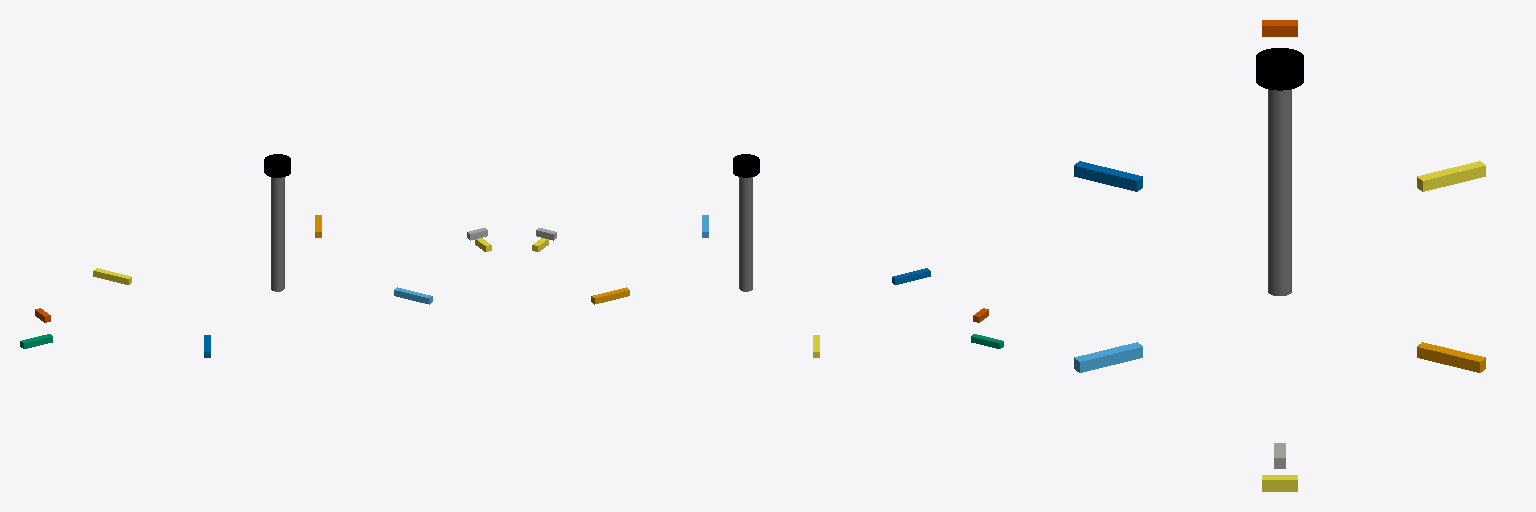
robot.urdf — sensors_robot:
<?xml version="1.0"?>
<robot name="sensors_robot">

  <!-- Dummy Root Link (Fixes KDL Inertia Warning) -->
  <link name="base_footprint"/>

  <joint name="base_joint" type="fixed">
    <parent link="base_footprint"/>
    <child link="base_link"/>
    <origin xyz="0 0 0" rpy="0 0 0"/>
  </joint>

  <!-- 车体 -->
  <link name="base_link">
    <visual>
      <origin xyz="0 0 0" rpy="0 0 0"/>
      <geometry>
        <mesh filename="package://model_test/meshes/visual/80.dae" scale="0.1 0.1 0.1"/>
      </geometry>
    </visual>
    <collision>
      <geometry>
        <mesh filename="package://model_test/meshes/collision/80.stl" scale="0.1 0.1 0.1"/>
      </geometry>
    </collision>
    <inertial>
      <mass value="10.0"/>
      <inertia ixx="0.1" ixy="0.0" ixz="0.0" iyy="0.1" iyz="0.0" izz="0.1"/>
    </inertial>
  </link>

  <!-- Gazebo Planar Move Plugin -->
  <gazebo>
    <plugin name="object_controller" filename="libgazebo_ros_planar_move.so">
      <commandTopic>/cmd_vel</commandTopic>
      <odometryTopic>odom</odometryTopic>
      <odometryFrame>odom</odometryFrame>
      <odometryRate>50.0</odometryRate>
      <robotBaseFrame>base_footprint</robotBaseFrame>
      <cmdTimeout>-1.0</cmdTimeout>
    </plugin>
  </gazebo>

  <!-- ================= SENSORS (GPU) ================= -->

  <!-- 1. LiDAR (128-line GPU) -->
  <link name="lidar_link">
    <visual>
      <geometry><cylinder radius="0.02" length="0.02"/></geometry>
      <material name="black"><color rgba="0 0 0 1"/></material>
    </visual>
    <!-- Support Stand -->
    <visual>
      <origin xyz="0 0 -0.1" rpy="0 0 0"/>
      <geometry><cylinder radius="0.01" length="0.2"/></geometry>
      <material name="grey"><color rgba="0.5 0.5 0.5 1"/></material>
    </visual>
  </link>
  <joint name="lidar_joint" type="fixed">
    <parent link="base_link"/>
    <child link="lidar_link"/>
    <origin xyz="0 0 0.35" rpy="0 0 0"/>
  </joint>
  <gazebo reference="lidar_link">
    <sensor type="ray" name="lidar_sensor">
      <pose>0 0 0 0 0 0</pose>
      <visualize>false</visualize>
      <update_rate>10</update_rate>
      <ray>
        <scan>
          <horizontal>
            <samples>1080</samples>
            <resolution>1</resolution>
            <min_angle>-3.14159</min_angle>
            <max_angle>3.14159</max_angle>
          </horizontal>
        </scan>
        <range>
          <min>0.10</min>
          <max>30.0</max>
          <resolution>0.01</resolution>
        </range>
      </ray>
      <plugin name="gazebo_ros_lidar_controller" filename="libgazebo_ros_laser.so">
        <topicName>/scan</topicName>
        <frameName>lidar_link</frameName>
      </plugin>
    </sensor>
  </gazebo>

  <!-- 2. Kinect Cameras (Front & Rear) -->
  <!-- Front Kinect -->
  <link name="kinect_front_link">
    <visual><geometry><box size="0.01 0.03 0.01"/></geometry></visual>
    <collision><geometry><box size="0.01 0.03 0.01"/></geometry></collision>
    <inertial>
      <mass value="0.01"/>
      <inertia ixx="0.00001" ixy="0" ixz="0" iyy="0.00001" iyz="0" izz="0.00001"/>
    </inertial>
  </link>
  
  <joint name="kinect_front_joint" type="fixed">
    <parent link="base_link"/>
    <child link="kinect_front_link"/>
    <origin xyz="0.35 0 0.14" rpy="0 0 0"/>
  </joint>

  <!-- Optical Frame for Plugin -->
  <link name="kinect_front_optical_link"/>
  <joint name="kinect_front_optical_joint" type="fixed">
    <parent link="kinect_front_link"/>
    <child link="kinect_front_optical_link"/>
    <origin xyz="0 0 0" rpy="-1.5708 0 -1.5708"/>
  </joint>

  <gazebo reference="kinect_front_link">
    <sensor type="depth" name="kinect_front_sensor">
      <update_rate>10.0</update_rate>
      <camera>
        <horizontal_fov>1.047</horizontal_fov>
        <image>
          <width>320</width>
          <height>240</height>
          <format>R8G8B8</format>
        </image>
        <clip><near>0.05</near><far>8.0</far></clip>
      </camera>
      <plugin name="kinect_front_controller" filename="libgazebo_ros_openni_kinect.so">
        <baseline>0.2</baseline>
        <alwaysOn>true</alwaysOn>
        <updateRate>0.0</updateRate>
        <cameraName>kinect_front</cameraName>
        <imageTopicName>rgb/image_raw</imageTopicName>
        <cameraInfoTopicName>rgb/camera_info</cameraInfoTopicName>
        <depthImageTopicName>depth/image_raw</depthImageTopicName>
        <depthImageCameraInfoTopicName>depth/camera_info</depthImageCameraInfoTopicName>
        <pointCloudTopicName>depth/points</pointCloudTopicName>
        <frameName>kinect_front_optical_link</frameName>
      </plugin>
    </sensor>
  </gazebo>

  <!-- Rear Kinect -->
  <link name="kinect_rear_link">
    <visual><geometry><box size="0.01 0.03 0.01"/></geometry></visual>
    <collision><geometry><box size="0.01 0.03 0.01"/></geometry></collision>
    <inertial>
      <mass value="0.01"/>
      <inertia ixx="0.00001" ixy="0" ixz="0" iyy="0.00001" iyz="0" izz="0.00001"/>
    </inertial>
  </link>
  
  <joint name="kinect_rear_joint" type="fixed">
    <parent link="base_link"/>
    <child link="kinect_rear_link"/>
    <origin xyz="-0.4 0 0.2" rpy="0 0 3.14159"/>
  </joint>

  <!-- Optical Frame for Plugin -->
  <link name="kinect_rear_optical_link"/>
  <joint name="kinect_rear_optical_joint" type="fixed">
    <parent link="kinect_rear_link"/>
    <child link="kinect_rear_optical_link"/>
    <origin xyz="0 0 0" rpy="-1.5708 0 -1.5708"/>
  </joint>

  <gazebo reference="kinect_rear_link">
    <sensor type="depth" name="kinect_rear_sensor">
      <update_rate>10.0</update_rate>
      <camera>
        <horizontal_fov>1.047</horizontal_fov>
        <image>
          <width>320</width>
          <height>240</height>
          <format>R8G8B8</format>
        </image>
        <clip><near>0.05</near><far>8.0</far></clip>
      </camera>
      <plugin name="kinect_rear_controller" filename="libgazebo_ros_openni_kinect.so">
        <baseline>0.2</baseline>
        <alwaysOn>true</alwaysOn>
        <updateRate>0.0</updateRate>
        <cameraName>kinect_rear</cameraName>
        <imageTopicName>rgb/image_raw</imageTopicName>
        <cameraInfoTopicName>rgb/camera_info</cameraInfoTopicName>
        <depthImageTopicName>depth/image_raw</depthImageTopicName>
        <depthImageCameraInfoTopicName>depth/camera_info</depthImageCameraInfoTopicName>
        <pointCloudTopicName>depth/points</pointCloudTopicName>
        <frameName>kinect_rear_optical_link</frameName>
      </plugin>
    </sensor>
  </gazebo>

  <!-- 3. Cameras (6 Surround) -->
  <!-- Cam 1: Front -->
  <link name="camera_front_link"><visual><geometry><box size="0.03 0.01 0.01"/></geometry></visual></link>
  <joint name="camera_front_joint" type="fixed"><parent link="base_link"/><child link="camera_front_link"/><origin xyz="0.34 0 0.16" rpy="0 0 0"/></joint>
  <gazebo reference="camera_front_link">
    <sensor type="camera" name="camera_front">
      <update_rate>10.0</update_rate>
      <camera><horizontal_fov>1.396</horizontal_fov><image><width>320</width><height>240</height><format>R8G8B8</format></image><clip><near>0.02</near><far>300</far></clip></camera>
      <plugin name="camera_controller" filename="libgazebo_ros_camera.so"><alwaysOn>true</alwaysOn><updateRate>0.0</updateRate><cameraName>camera_front</cameraName><imageTopicName>image_raw</imageTopicName><cameraInfoTopicName>camera_info</cameraInfoTopicName><frameName>camera_front_link</frameName></plugin>
    </sensor>
  </gazebo>

  <!-- Cam 2: Front Left (60 deg) -->
  <link name="camera_fl_link"><visual><geometry><box size="0.06 0.01 0.01"/></geometry></visual></link>
  <joint name="camera_fl_joint" type="fixed"><parent link="base_link"/><child link="camera_fl_link"/><origin xyz="0.15 0.14 0.16" rpy="0 0 1.047"/></joint>
  <gazebo reference="camera_fl_link">
    <sensor type="camera" name="camera_fl">
      <update_rate>10.0</update_rate>
      <camera><horizontal_fov>1.396</horizontal_fov><image><width>320</width><height>240</height><format>R8G8B8</format></image><clip><near>0.02</near><far>300</far></clip></camera>
      <plugin name="camera_controller" filename="libgazebo_ros_camera.so"><alwaysOn>true</alwaysOn><updateRate>0.0</updateRate><cameraName>camera_fl</cameraName><imageTopicName>image_raw</imageTopicName><cameraInfoTopicName>camera_info</cameraInfoTopicName><frameName>camera_fl_link</frameName></plugin>
    </sensor>
  </gazebo>

  <!-- Cam 3: Front Right (-60 deg) -->
  <link name="camera_fr_link"><visual><geometry><box size="0.06 0.01 0.01"/></geometry></visual></link>
  <joint name="camera_fr_joint" type="fixed"><parent link="base_link"/><child link="camera_fr_link"/><origin xyz="0.15 -0.14 0.16" rpy="0 0 -1.047"/></joint>
  <gazebo reference="camera_fr_link">
    <sensor type="camera" name="camera_fr">
      <update_rate>10.0</update_rate>
      <camera><horizontal_fov>1.396</horizontal_fov><image><width>320</width><height>240</height><format>R8G8B8</format></image><clip><near>0.02</near><far>300</far></clip></camera>
      <plugin name="camera_controller" filename="libgazebo_ros_camera.so"><alwaysOn>true</alwaysOn><updateRate>0.0</updateRate><cameraName>camera_fr</cameraName><imageTopicName>image_raw</imageTopicName><cameraInfoTopicName>camera_info</cameraInfoTopicName><frameName>camera_fr_link</frameName></plugin>
    </sensor>
  </gazebo>

  <!-- Cam 4: Back -->
  <link name="camera_back_link"><visual><geometry><box size="0.05 0.01 0.01"/></geometry></visual></link>
  <joint name="camera_back_joint" type="fixed"><parent link="base_link"/><child link="camera_back_link"/><origin xyz="-0.41 0 0.16" rpy="0 0 3.14159"/></joint>
  <gazebo reference="camera_back_link">
    <sensor type="camera" name="camera_back">
      <update_rate>10.0</update_rate>
      <camera><horizontal_fov>1.396</horizontal_fov><image><width>320</width><height>240</height><format>R8G8B8</format></image><clip><near>0.02</near><far>300</far></clip></camera>
      <plugin name="camera_controller" filename="libgazebo_ros_camera.so"><alwaysOn>true</alwaysOn><updateRate>0.0</updateRate><cameraName>camera_back</cameraName><imageTopicName>image_raw</imageTopicName><cameraInfoTopicName>camera_info</cameraInfoTopicName><frameName>camera_back_link</frameName></plugin>
    </sensor>
  </gazebo>

  <!-- Cam 5: Back Left (120 deg) -->
  <link name="camera_bl_link"><visual><geometry><box size="0.06 0.01 0.01"/></geometry></visual></link>
  <joint name="camera_bl_joint" type="fixed"><parent link="base_link"/><child link="camera_bl_link"/><origin xyz="-0.2 0.14 0.16" rpy="0 0 2.094"/></joint>
  <gazebo reference="camera_bl_link">
    <sensor type="camera" name="camera_bl">
      <update_rate>10.0</update_rate>
      <camera><horizontal_fov>1.396</horizontal_fov><image><width>320</width><height>240</height><format>R8G8B8</format></image><clip><near>0.02</near><far>300</far></clip></camera>
      <plugin name="camera_controller" filename="libgazebo_ros_camera.so"><alwaysOn>true</alwaysOn><updateRate>0.0</updateRate><cameraName>camera_bl</cameraName><imageTopicName>image_raw</imageTopicName><cameraInfoTopicName>camera_info</cameraInfoTopicName><frameName>camera_bl_link</frameName></plugin>
    </sensor>
  </gazebo>

  <!-- Cam 6: Back Right (-120 deg) -->
  <link name="camera_br_link"><visual><geometry><box size="0.06 0.01 0.01"/></geometry></visual></link>
  <joint name="camera_br_joint" type="fixed"><parent link="base_link"/><child link="camera_br_link"/><origin xyz="-0.2 -0.14 0.16" rpy="0 0 -2.094"/></joint>
  <gazebo reference="camera_br_link">
    <sensor type="camera" name="camera_br">
      <update_rate>10.0</update_rate>
      <camera><horizontal_fov>1.396</horizontal_fov><image><width>320</width><height>240</height><format>R8G8B8</format></image><clip><near>0.02</near><far>300</far></clip></camera>
      <plugin name="camera_controller" filename="libgazebo_ros_camera.so"><alwaysOn>true</alwaysOn><updateRate>0.0</updateRate><cameraName>camera_br</cameraName><imageTopicName>image_raw</imageTopicName><cameraInfoTopicName>camera_info</cameraInfoTopicName><frameName>camera_br_link</frameName></plugin>
    </sensor>
  </gazebo>
  
</robot>

--- What the picture shows (computed from the rendered views, not written in the file) ---
The picture shows the robot from 3 angles, left to right: view 1: azimuth 30°, elevation 25°; view 2: azimuth 150°, elevation 25°; view 3: azimuth 270°, elevation 25°; orthographic projection.
Model sensors_robot with 13 links and 12 joints (12 fixed), rooted at base_footprint, posed every joint at zero.
Visible links, largest first — view 1: lidar_link; view 2: lidar_link; view 3: lidar_link, camera_fl_link, camera_fr_link, camera_bl_link, camera_br_link, kinect_front_link, kinect_rear_link.
Link boxes in pixels (x1,y1,x2,y2): lidar_link: (264, 154, 290, 291); lidar_link: (733, 154, 759, 291); lidar_link: (1256, 48, 1303, 295); camera_fl_link: (1417, 342, 1485, 372); camera_fr_link: (1074, 342, 1142, 372); camera_bl_link: (1417, 161, 1485, 191); camera_br_link: (1074, 161, 1142, 191); kinect_front_link: (1262, 475, 1297, 491); kinect_rear_link: (1262, 20, 1297, 36).
Size in the robot's own frame: 0.79 by 0.337 by 0.225 metres.
0 mesh visuals loaded from 1 distinct referenced files (none loaded); not drawn: 1 (reference not matched to a file when rendering).
